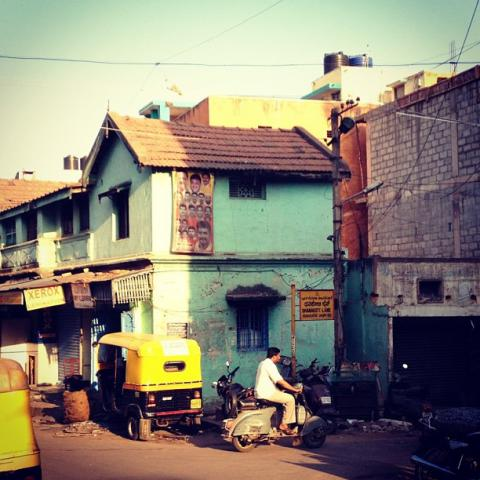car: (98, 332, 206, 442)
motorcycle: (223, 381, 328, 453), (212, 358, 254, 420), (308, 372, 338, 434)
